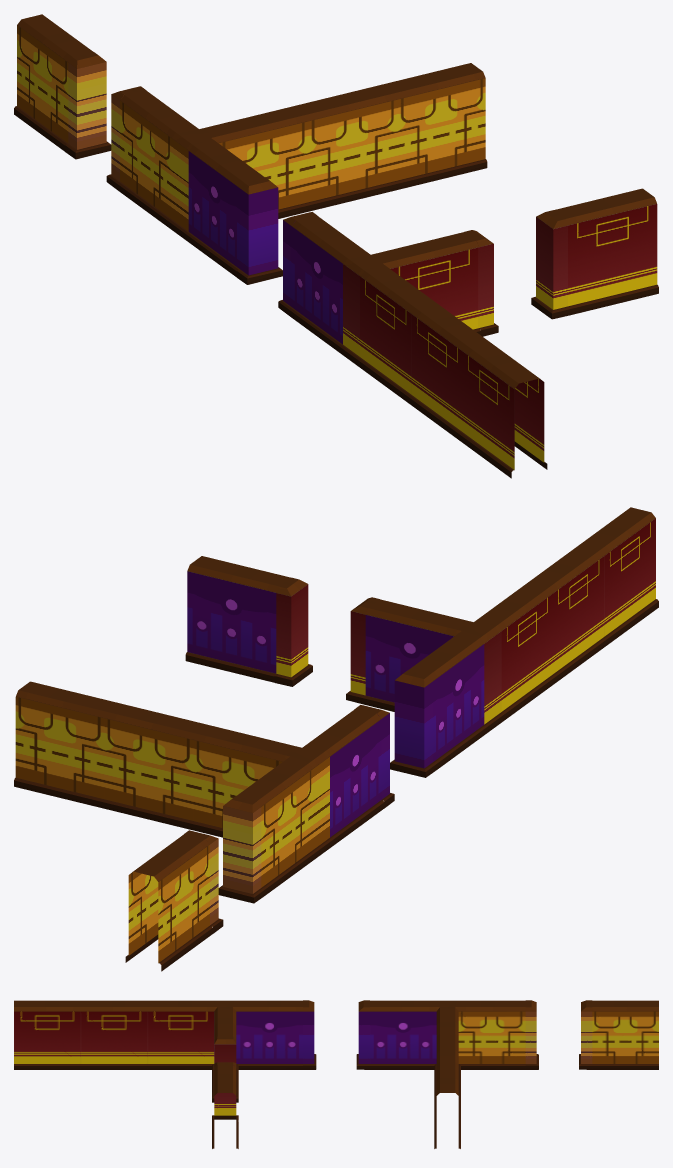
The model's file is Wall_Bedroom_Library_Living_v1.fbx.
The picture shows the model from 3 angles, top to bottom: view 1: azimuth 30°, elevation 25°; view 2: azimuth 150°, elevation 25°; view 3: azimuth 270°, elevation 25°; orthographic projection. The views are drawn at different scales.
Visible parts, largest first — view 1: Bedroom_Library_Living; view 2: Bedroom_Library_Living; view 3: Bedroom_Library_Living.
Part boxes in pixels (box(x1,y1,x2,y2)): Bedroom_Library_Living: box(14, 14, 658, 478); Bedroom_Library_Living: box(14, 507, 658, 971); Bedroom_Library_Living: box(14, 1000, 658, 1148).
Size of the model in its own units: 1010 by 300 by 2900.
